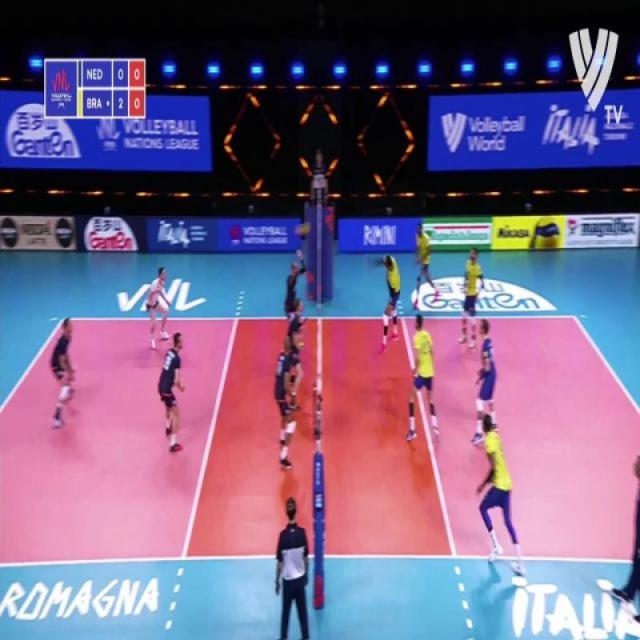volleyball: (536, 217, 562, 250), (294, 222, 310, 236)
